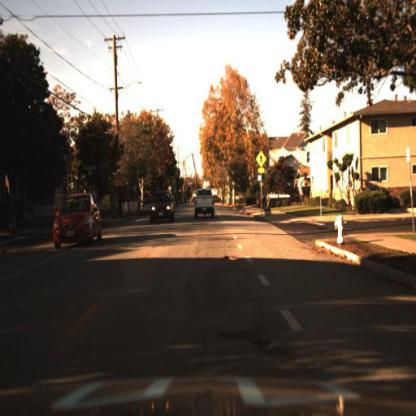car: (53, 192, 103, 252), (146, 189, 177, 229), (192, 189, 219, 220), (150, 190, 176, 221)
